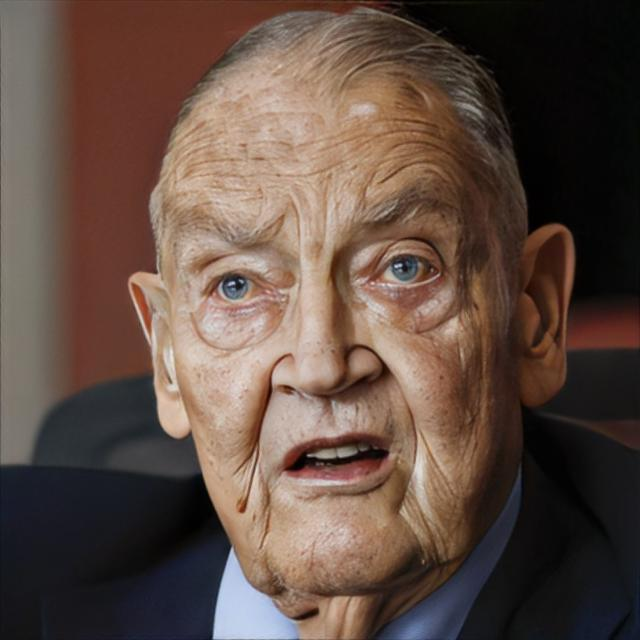anger: (173, 124, 517, 588)
